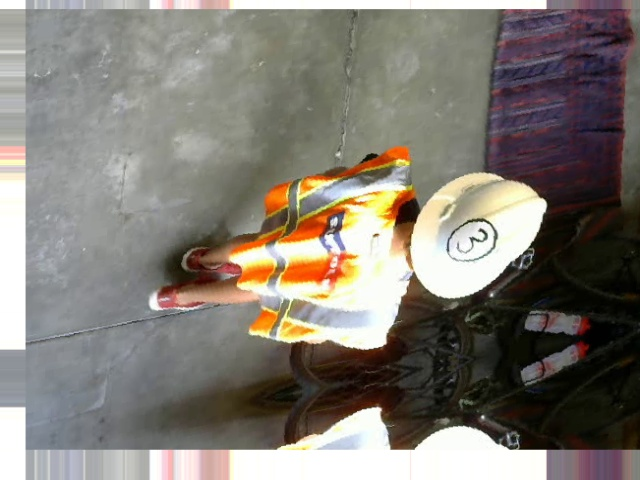three: (444, 213, 499, 265)
